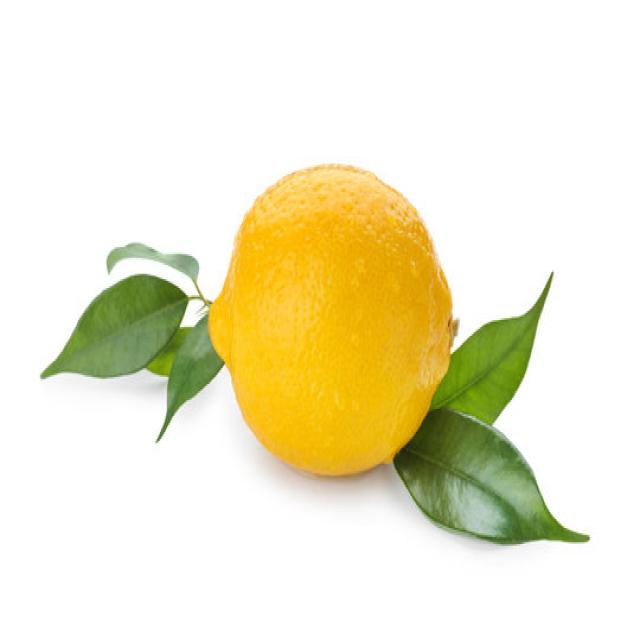Lemon: (206, 160, 456, 476)
Potato: (40, 160, 589, 546)
